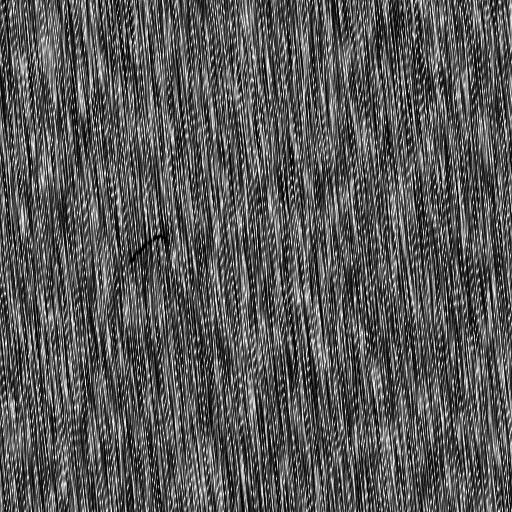DefectTypeC: (130, 235, 170, 264)
